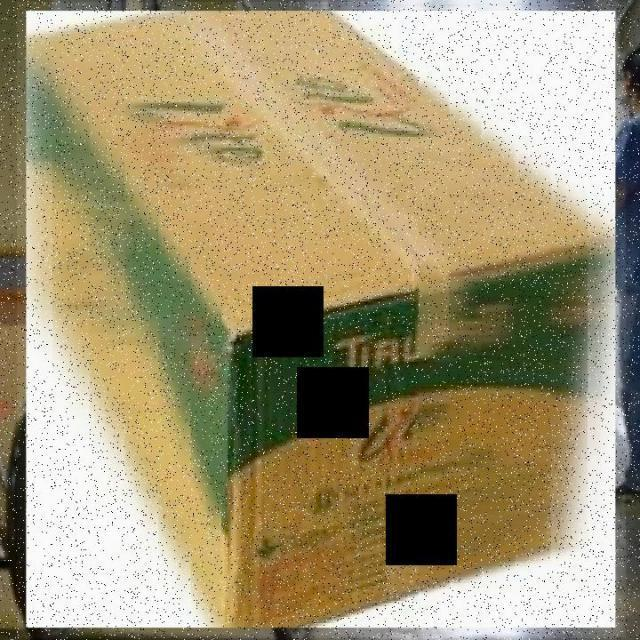box: (17, 1, 626, 638)
